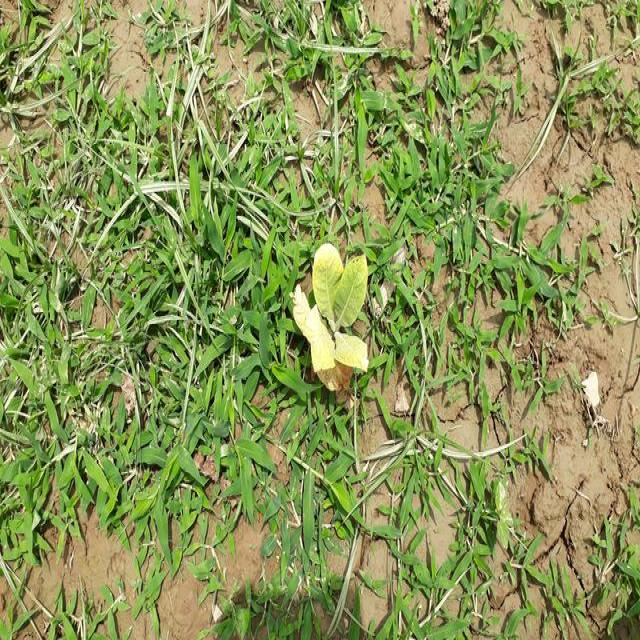crop: (286, 228, 381, 391)
